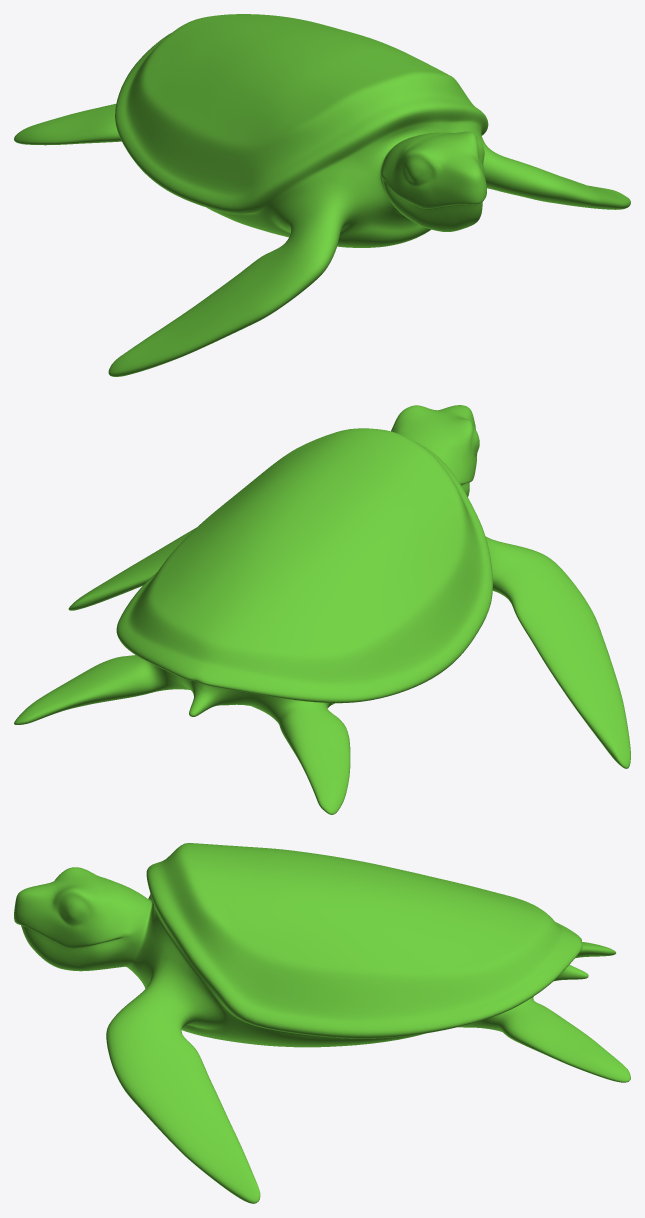
The model's file is tortuga.obj.
3 views of the same model, one above another, from view 1: azimuth 30°, elevation 25°; view 2: azimuth 150°, elevation 25°; view 3: azimuth 270°, elevation 25° (orthographic). The views are drawn at different scales.
Parts seen in each view (by area): view 1: seaturtle; view 2: seaturtle; view 3: seaturtle.
Boxes of the visible parts, x1,y1,x2,y2 form: seaturtle: [14, 14, 630, 376]; seaturtle: [14, 405, 630, 814]; seaturtle: [14, 843, 630, 1203].
Bounding box in the file's own units: 41.34 × 18.58 × 41.37.
